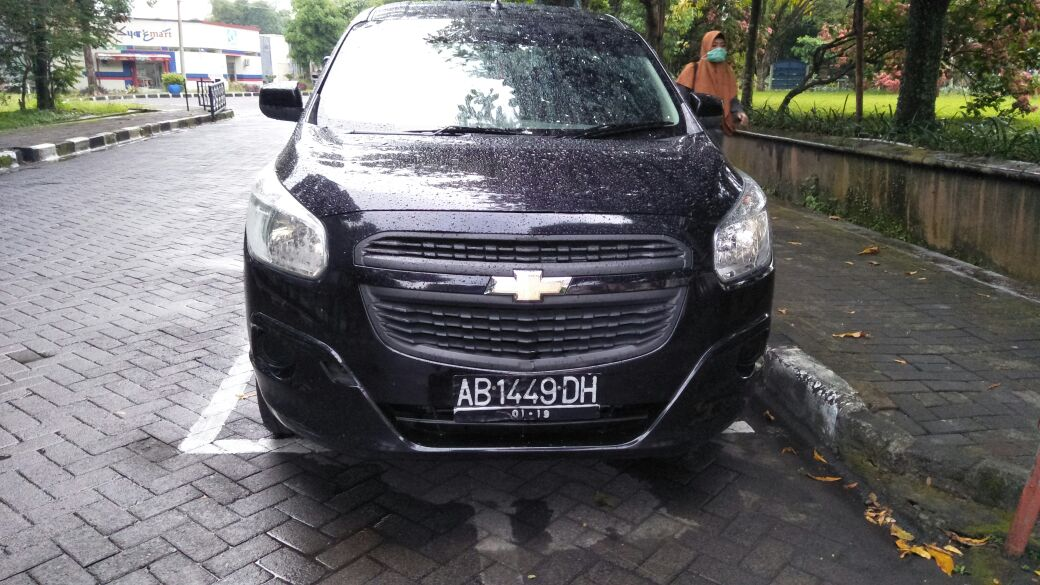plate: (448, 372, 603, 412)
